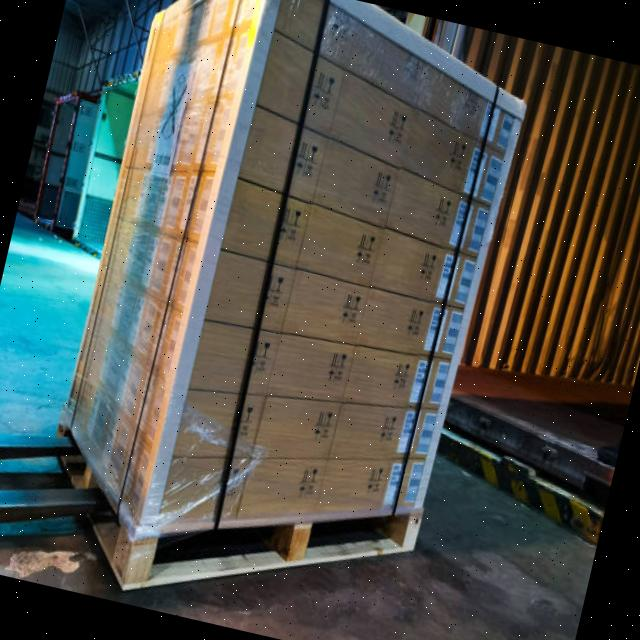Wooden-Pallets: (90, 508, 430, 596)
